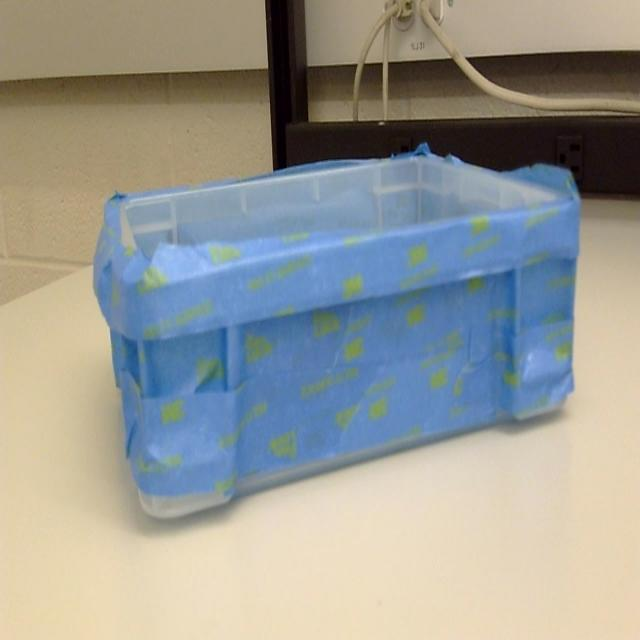bucket: (92, 149, 582, 524)
